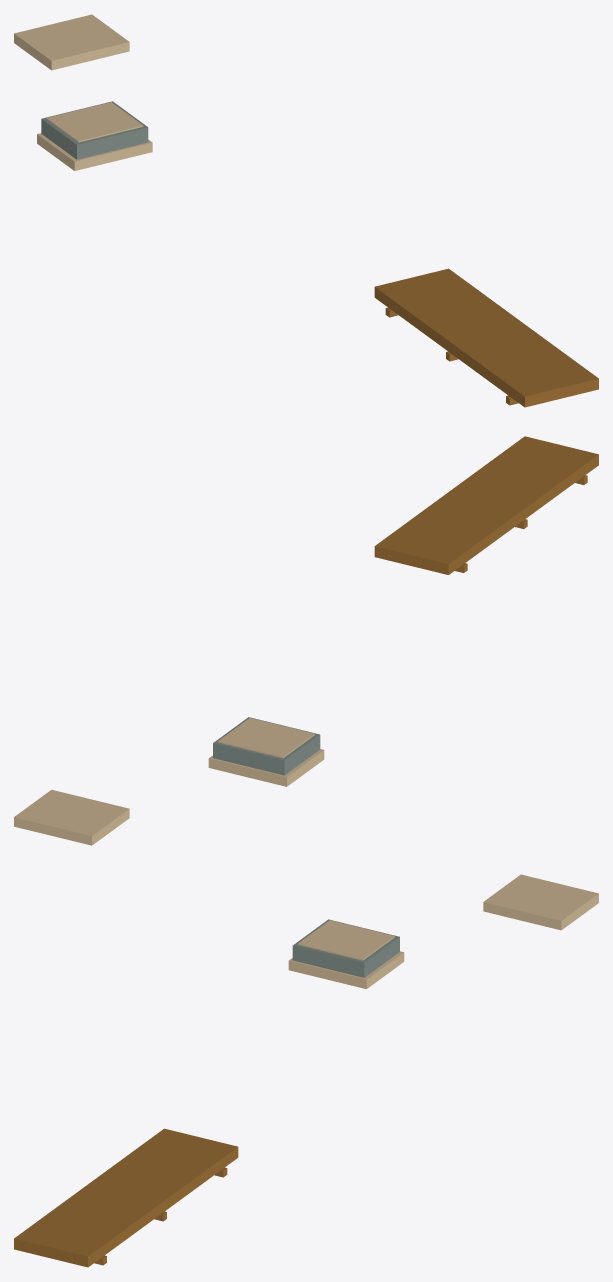
File: SM_CargaMateriales_Vacio_LOD1.fbx
The picture shows the model from 3 angles, top to bottom: view 1: azimuth 30°, elevation 25°; view 2: azimuth 150°, elevation 25°; view 3: azimuth 330°, elevation 25°; orthographic projection.
Parts seen in each view (by area): view 1: SM_carga_vagon_v12_LOD1; view 2: SM_carga_vagon_v12_LOD1; view 3: SM_carga_vagon_v12_LOD1.
Boxes of the visible parts, box(x1,y1,x2,y2) form: SM_carga_vagon_v12_LOD1: box(14, 14, 598, 407); SM_carga_vagon_v12_LOD1: box(14, 436, 598, 845); SM_carga_vagon_v12_LOD1: box(14, 874, 598, 1267).
Bounding box in the file's own units: 2.52 × 0.385 × 13.55.
